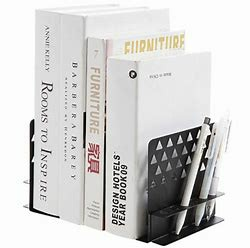pen: (170, 118, 203, 228), (201, 120, 223, 222), (214, 115, 234, 219)
